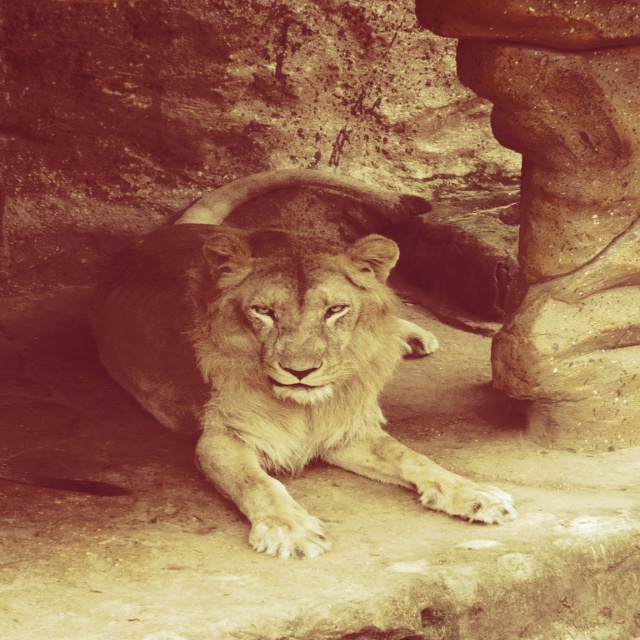Lion: (86, 166, 516, 559)
